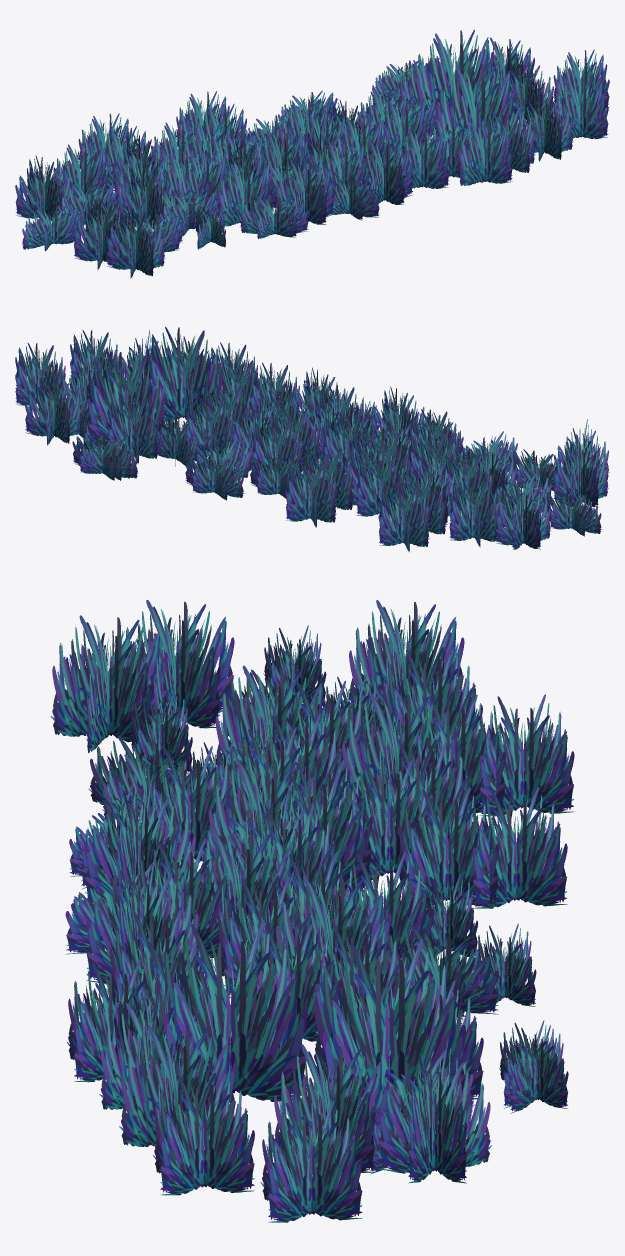
File: SingleMedianGrass_01.fbx
3 renders of one model, top to bottom at view 1: azimuth 30°, elevation 25°; view 2: azimuth 150°, elevation 25°; view 3: azimuth 270°, elevation 25°, orthographic. The views are drawn at different scales.
Parts seen in each view (by area): view 1: polySurface85, polySurface61, polySurface215, polySurface60, polySurface70, polySurface127, polySurface69, polySurface136, polySurface185, polySurface75, polySurface84, polySurface93 (+83 smaller); view 2: polySurface61, polySurface85, polySurface59, polySurface83, polySurface239, polySurface199, polySurface184, polySurface238, polySurface193, polySurface186, polySurface196, polySurface213 (+84 smaller); view 3: polySurface59, polySurface83, polySurface84, polySurface60, polySurface217, polySurface79, polySurface71, polySurface74, polySurface240, polySurface187, polySurface197, polySurface182 (+97 smaller).
Boxes of the visible parts, box(x1,y1,x2,y2) form: polySurface85: box(417, 29, 494, 111); polySurface61: box(438, 63, 515, 144); polySurface215: box(106, 215, 165, 269); polySurface60: box(434, 72, 519, 137); polySurface70: box(459, 121, 510, 185); polySurface127: box(219, 162, 270, 226); polySurface69: box(456, 126, 512, 183); polySurface136: box(276, 159, 334, 217); polySurface185: box(15, 164, 73, 218); polySurface75: box(552, 82, 608, 139); polySurface84: box(413, 38, 497, 108); polySurface93: box(394, 132, 449, 188); polySurface61: box(146, 326, 222, 417); polySurface85: box(88, 351, 164, 437); polySurface59: box(146, 334, 222, 421); polySurface83: box(88, 358, 164, 443); polySurface239: box(25, 383, 82, 436); polySurface199: box(285, 458, 336, 522); polySurface184: box(378, 483, 429, 546); polySurface238: box(107, 394, 158, 458); polySurface193: box(449, 478, 499, 541); polySurface186: box(495, 489, 550, 545); polySurface196: box(395, 470, 446, 534); polySurface213: box(553, 447, 608, 502); polySurface59: box(155, 924, 307, 1101); polySurface83: box(314, 942, 466, 1096); polySurface84: box(322, 938, 453, 1111); polySurface60: box(163, 920, 295, 1092); polySurface217: box(50, 615, 167, 736); polySurface79: box(119, 1025, 236, 1146); polySurface71: box(260, 1102, 362, 1220); polySurface74: box(153, 1075, 254, 1192); polySurface240: box(378, 1062, 491, 1173); polySurface187: box(349, 600, 464, 712); polySurface197: box(467, 788, 567, 906); polySurface182: box(473, 696, 574, 813).
Bounding box in the file's own units: 3687 × 587 × 1442.
